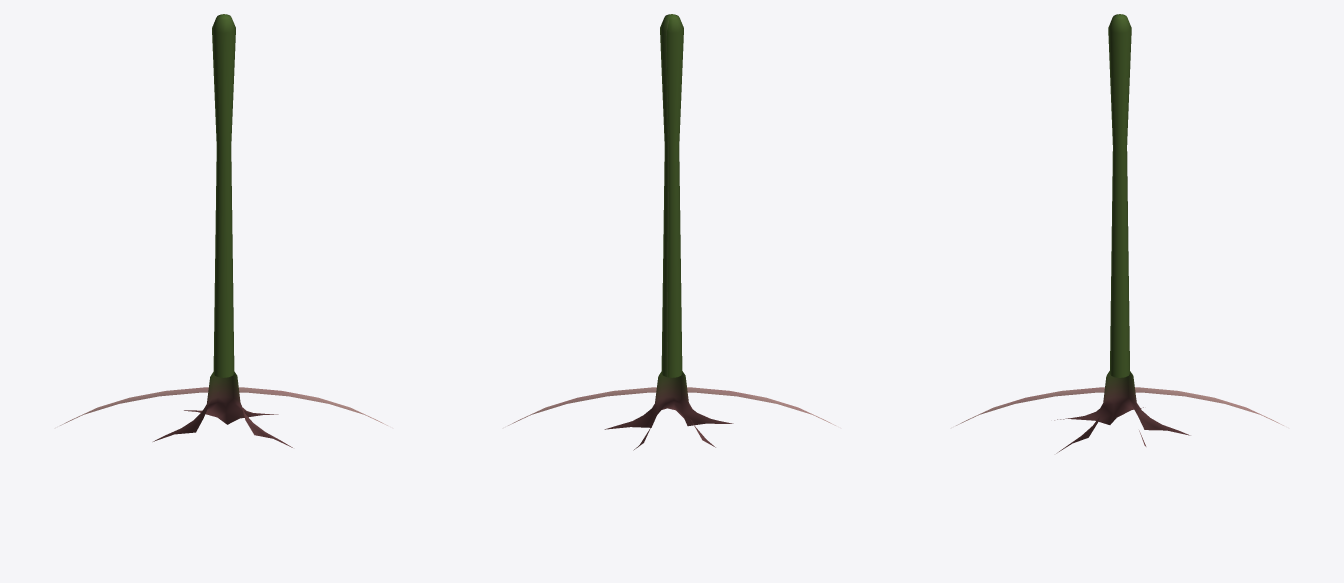
Rendered from UmbrellaCherryblossom0.glb.
3 renders of one model, left to right at view 1: azimuth 30°, elevation 25°; view 2: azimuth 150°, elevation 25°; view 3: azimuth 270°, elevation 25°, orthographic.
Visible parts, largest first — view 1: Pole__mUmbrella; view 2: Pole__mUmbrella; view 3: Pole__mUmbrella.
Part boxes in pixels (bbox=[...]): Pole__mUmbrella: bbox=[60, 14, 387, 447]; Pole__mUmbrella: bbox=[508, 14, 835, 450]; Pole__mUmbrella: bbox=[956, 14, 1283, 453].
Bounding box in the file's own units: 13.77 × 16.99 × 13.85.
1 material, 1 textured.
